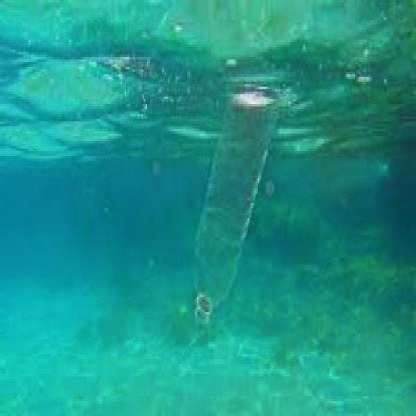pbottle: (176, 74, 284, 357)
